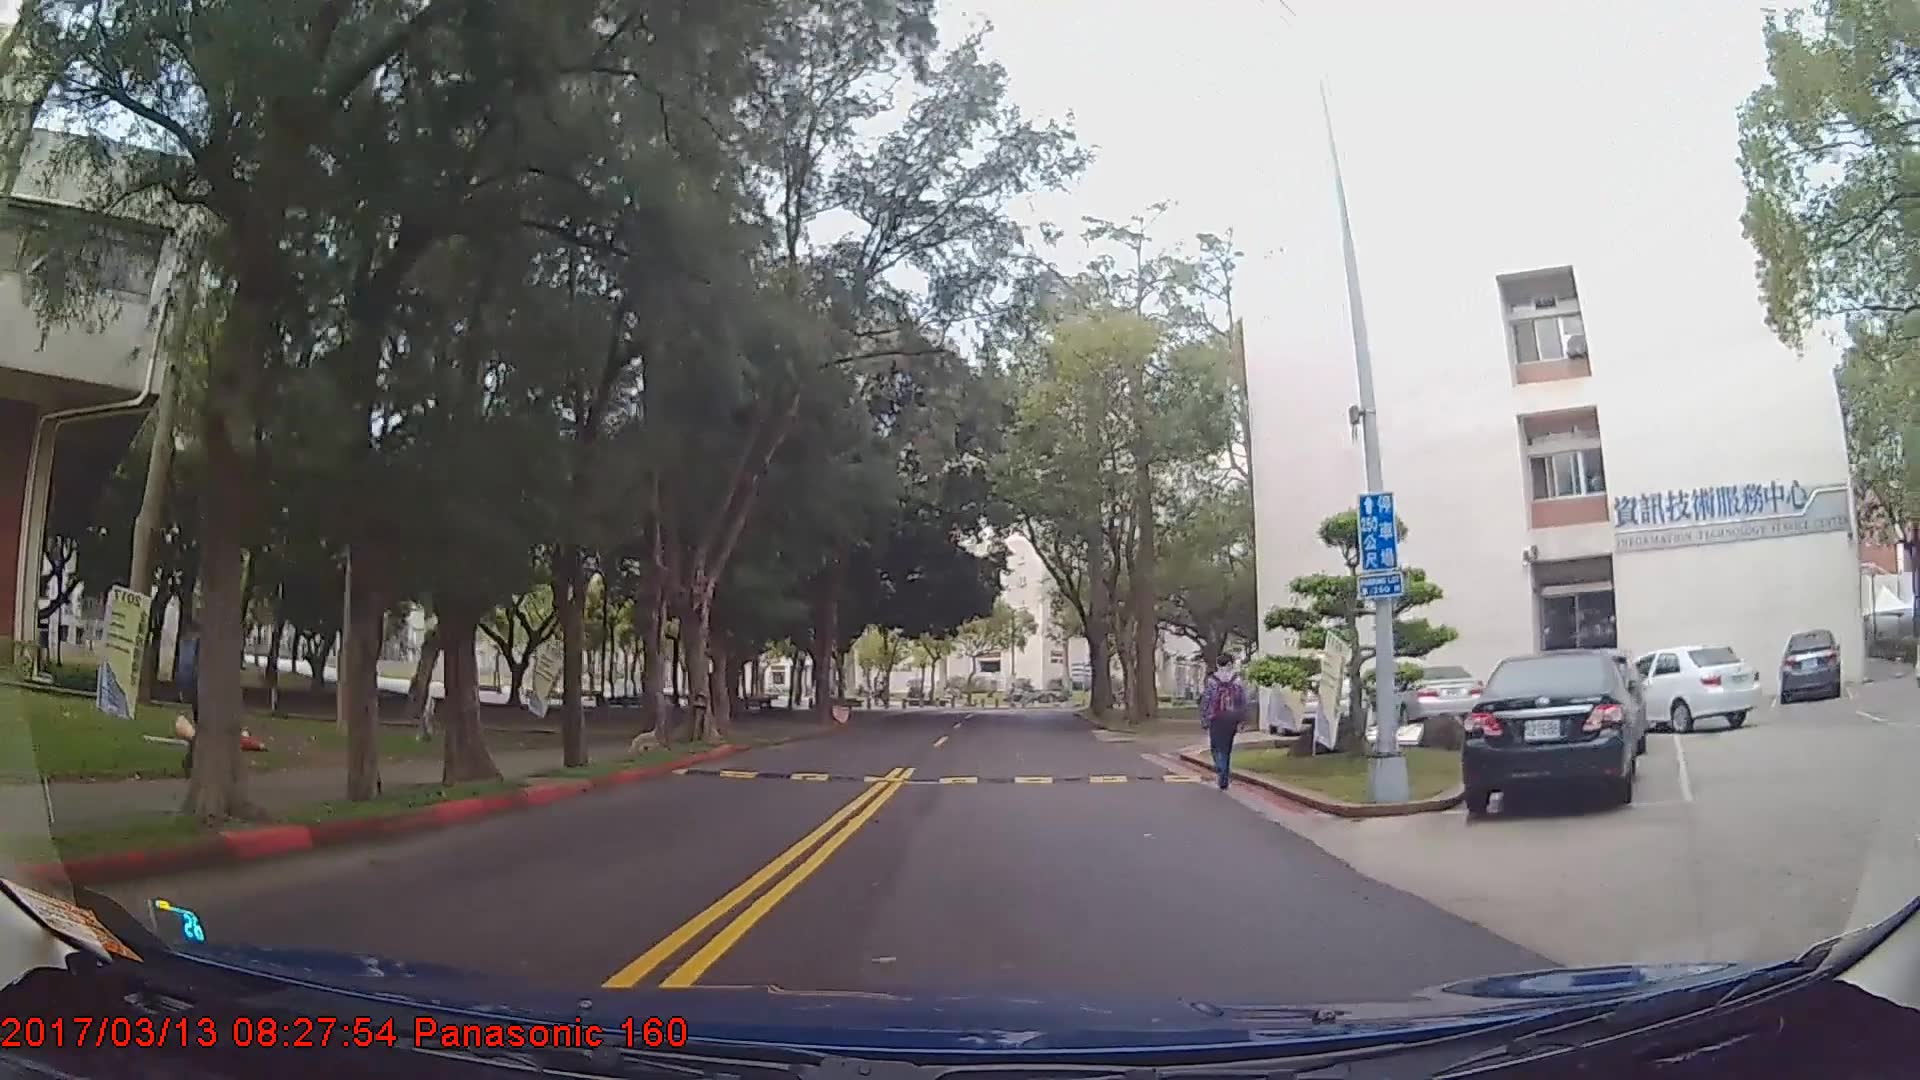pedestrian: (1193, 655, 1255, 796)
vehicle: (1464, 647, 1641, 819), (1629, 644, 1761, 733), (1370, 661, 1481, 727), (1779, 631, 1840, 706)
